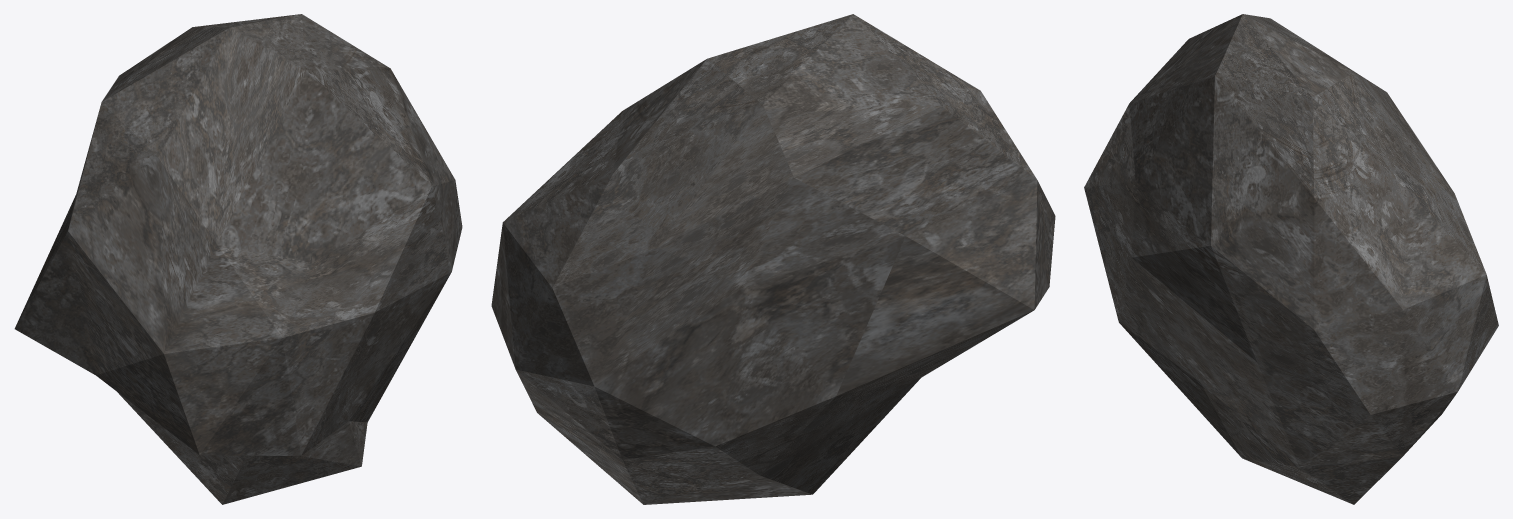
The model's file is Asteroid_02_LOD2.FBX.
The picture shows the model from 3 angles, left to right: view 1: azimuth 30°, elevation 25°; view 2: azimuth 150°, elevation 25°; view 3: azimuth 270°, elevation 25°; orthographic projection. The views are drawn at different scales.
Visible parts, largest first — view 1: Asteriod_02_LOD2; view 2: Asteriod_02_LOD2; view 3: Asteriod_02_LOD2.
Part boxes in pixels (x1=…): Asteriod_02_LOD2: x1=14, y1=14, x2=462, y2=504; Asteriod_02_LOD2: x1=491, y1=14, x2=1055, y2=504; Asteriod_02_LOD2: x1=1084, y1=14, x2=1498, y2=504.
Size of the model in its own units: 765 by 731 by 644.
Materials: 1 (1 with a texture image).
